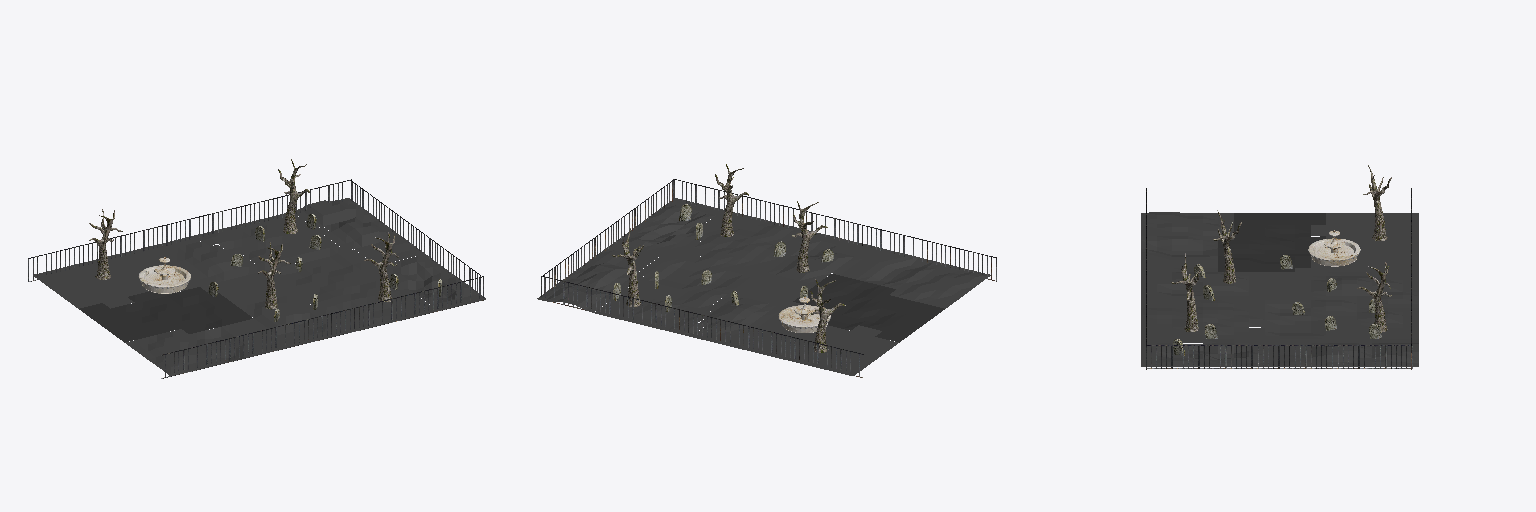
The picture shows the model from 3 angles: view 1: azimuth 30°, elevation 25°; view 2: azimuth 150°, elevation 25°; view 3: azimuth 270°, elevation 25°; orthographic projection.
Parts seen in each view (by area): view 1: Grid.038, Grid.043, Grid.039, Grid.040, Grid.041, Grid.047, Grid.042, Grid.044, Grid.045, Grid.046, Plane.259_Plane.280, Plane.260_Plane.281 (+6 smaller); view 2: Grid.038, Grid.041, Grid.043, Grid.039, Grid.040, Grid.042, Grid.047, Grid.044, Grid.045, Grid.046, Plane.260_Plane.281, Plane.259_Plane.280 (+6 smaller); view 3: Grid.038, Grid.041, Grid.043, Grid.040, Grid.039, Grid.042, Grid.047, Grid.044, Grid.045, Grid.046, Plane.261_Plane.282, Fonte.001_Circle.012 (+4 smaller).
Boxes of the visible parts, x1,y1,x2,y2 form: Grid.038: [79, 287, 252, 342]; Grid.043: [295, 274, 437, 332]; Grid.039: [34, 249, 190, 308]; Grid.040: [138, 238, 266, 306]; Grid.041: [125, 325, 275, 375]; Grid.047: [295, 198, 423, 262]; Grid.042: [230, 278, 348, 350]; Grid.044: [186, 214, 313, 270]; Grid.045: [266, 213, 379, 292]; Grid.046: [369, 254, 485, 310]; Plane.259_Plane.280: [161, 276, 483, 378]; Plane.260_Plane.281: [28, 179, 351, 281]; Grid.038: [793, 274, 944, 342]; Grid.041: [856, 249, 990, 308]; Grid.043: [687, 210, 810, 274]; Grid.039: [748, 320, 898, 375]; Grid.040: [700, 281, 814, 350]; Grid.042: [737, 233, 885, 289]; Grid.047: [537, 243, 661, 312]; Grid.044: [602, 285, 728, 338]; Grid.045: [594, 240, 758, 314]; Grid.046: [614, 198, 722, 256]; Plane.260_Plane.281: [542, 276, 863, 377]; Plane.259_Plane.280: [673, 179, 996, 281]; Grid.038: [1218, 213, 1325, 271]; Grid.041: [1141, 212, 1233, 267]; Grid.043: [1141, 300, 1264, 342]; Grid.040: [1249, 257, 1418, 299]; Grid.039: [1311, 213, 1418, 267]; Grid.042: [1141, 260, 1294, 299]; Grid.047: [1265, 339, 1418, 366]; Grid.044: [1311, 288, 1418, 334]; Grid.045: [1218, 300, 1418, 342]; Grid.046: [1141, 339, 1264, 366]; Plane.261_Plane.282: [1147, 345, 1412, 368]; Fonte.001_Circle.012: [1308, 230, 1360, 266].
Size of the model in its own units: 29.08 by 6.42 by 21.54.
Materials: 7 (4 with a texture image).